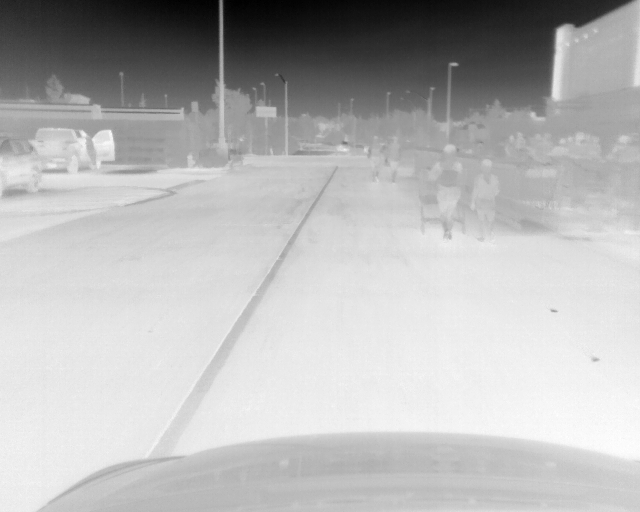car: (31, 126, 116, 174), (1, 135, 40, 193), (336, 141, 350, 153)
people: (428, 143, 464, 241), (471, 157, 502, 243), (607, 134, 639, 214), (568, 131, 596, 206), (530, 132, 556, 163), (386, 136, 402, 186), (367, 133, 382, 184), (505, 133, 528, 160), (84, 134, 97, 169)
